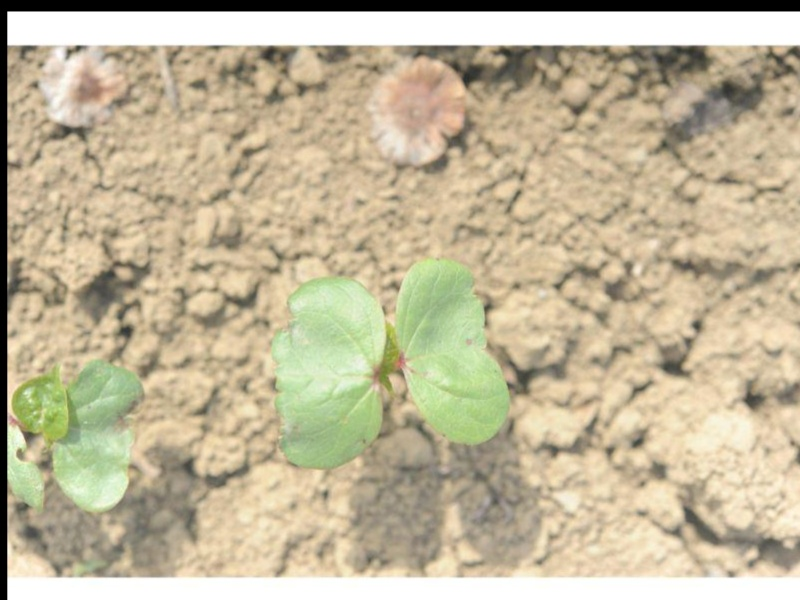cotton: (271, 254, 510, 471), (10, 360, 145, 514)
